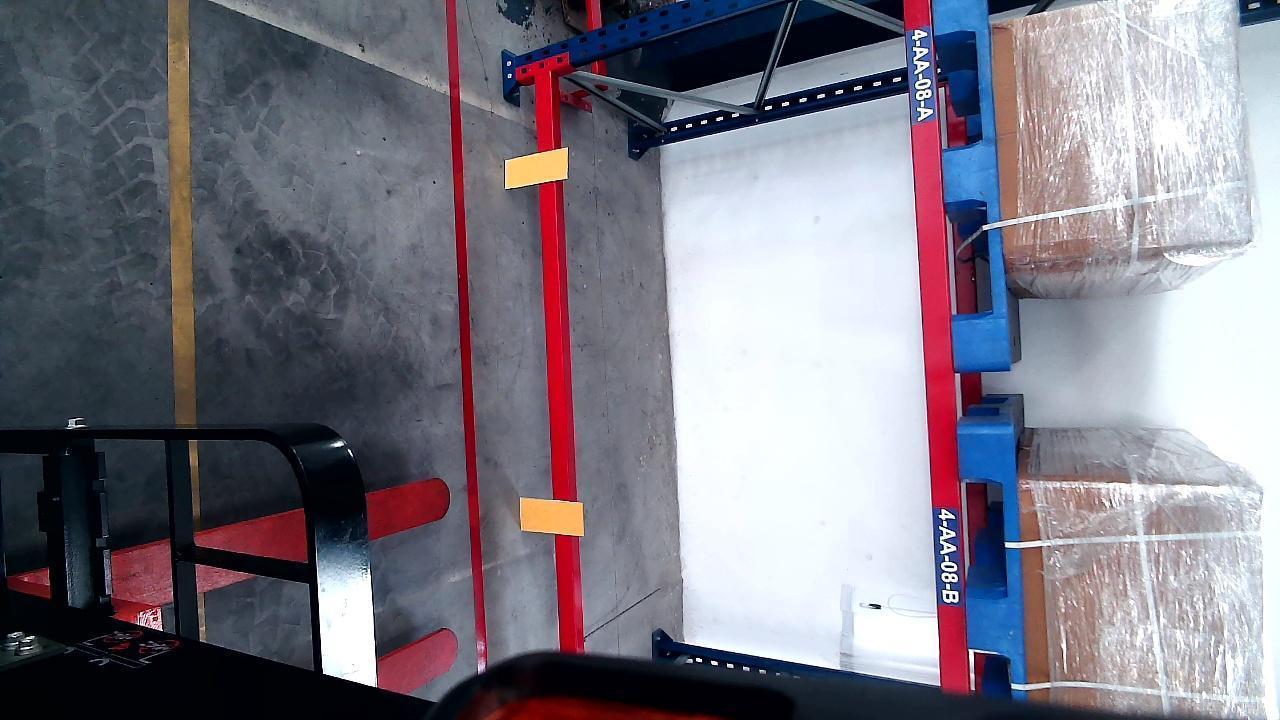h_rack: (905, 0, 970, 697), (538, 63, 579, 648)
orange_strip: (506, 148, 568, 188), (519, 497, 584, 534)
red_line: (448, 0, 484, 674)
small_pallet: (934, 0, 1009, 368), (962, 430, 1025, 699)
yellow_line: (169, 0, 195, 418)
